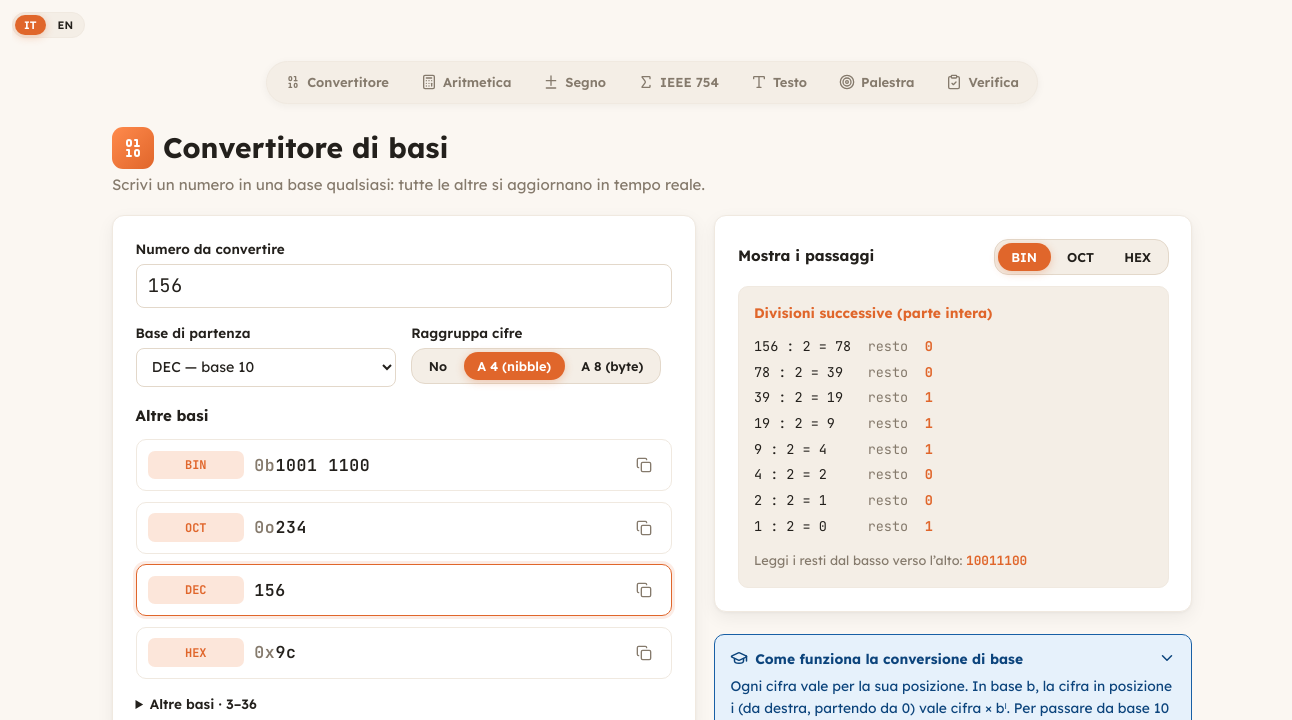
it: Convertitore — comportamento › aggiorna le altre basi quando cambia l’input
This screenshot has width=1292, height=720.
Replace the text in the field labelled "Numero da convertire" with "255": coordinates (404, 286) [136, 264, 672, 308]
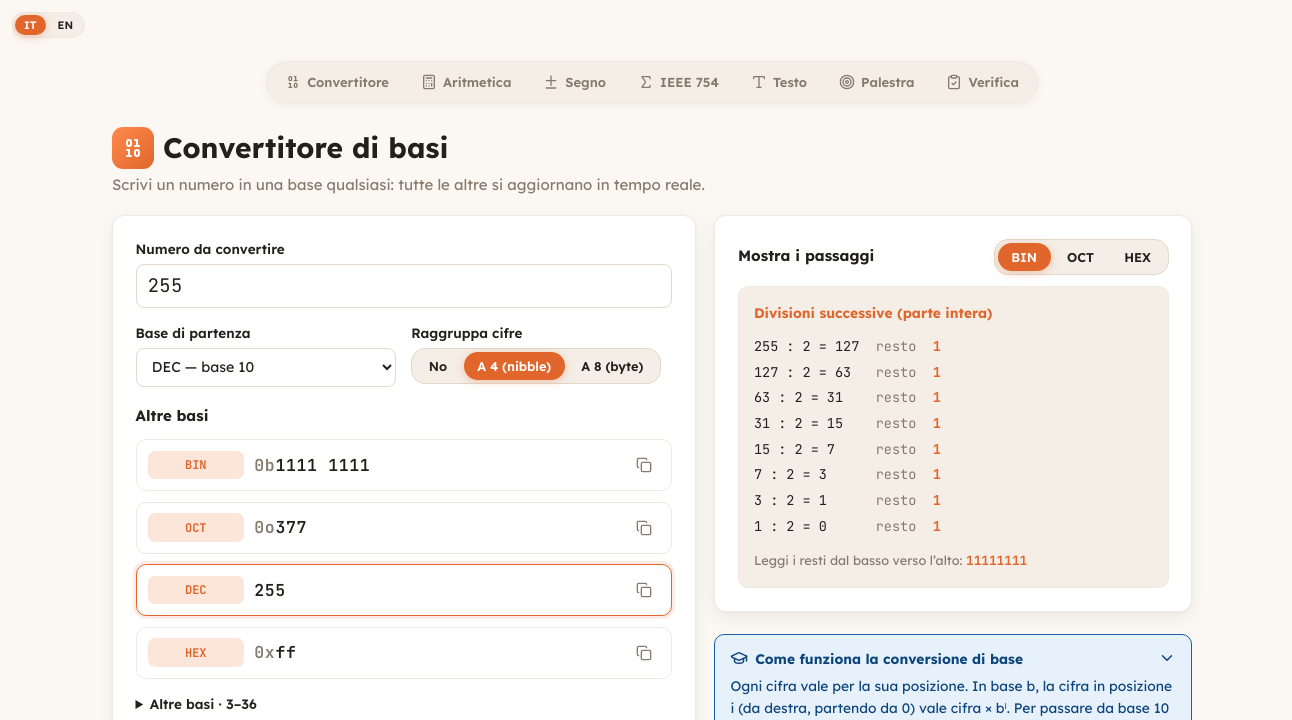
Result: the text "0b1111 1111" is shown at [254, 454, 370, 476]
